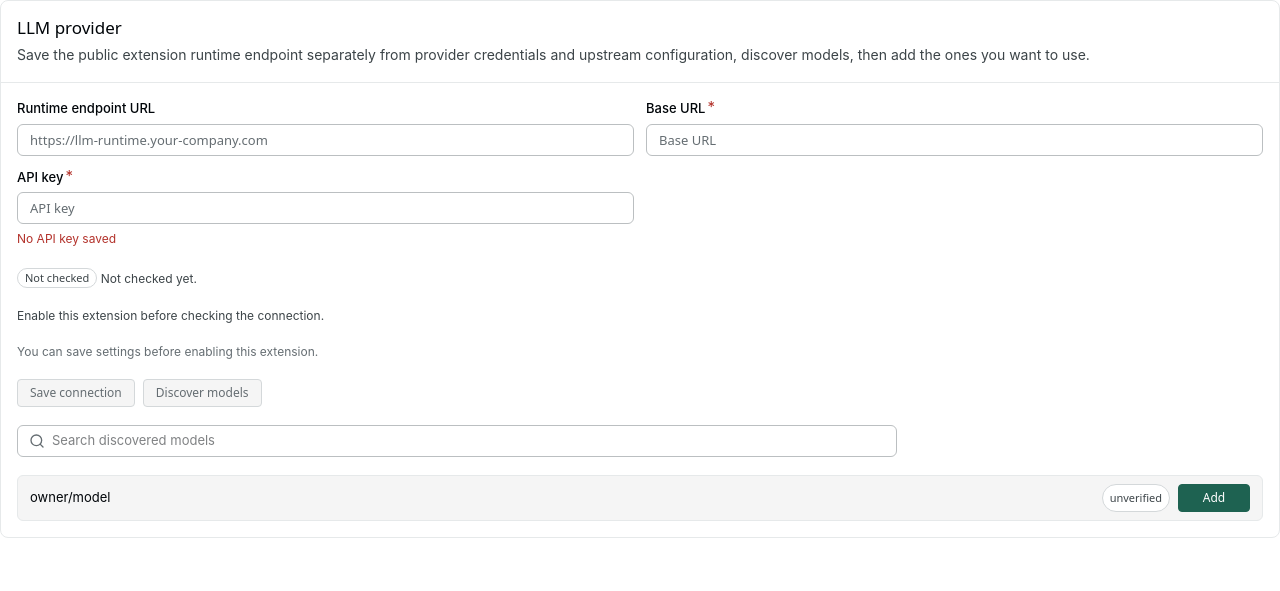
Test: LlmProviderPanel › saves disabled remote setup without checking and asks the operator to Enable
Expected: the text "owner/model" is shown, x1=30 y1=489 x2=110 y2=505
Expected: the button "Save connection" is disabled, x1=17 y1=378 x2=135 y2=406
Type "https://runtime.example.com" into the field labelled "Runtime endpoint URL" at (326, 140), box x1=17 y1=124 x2=634 y2=156
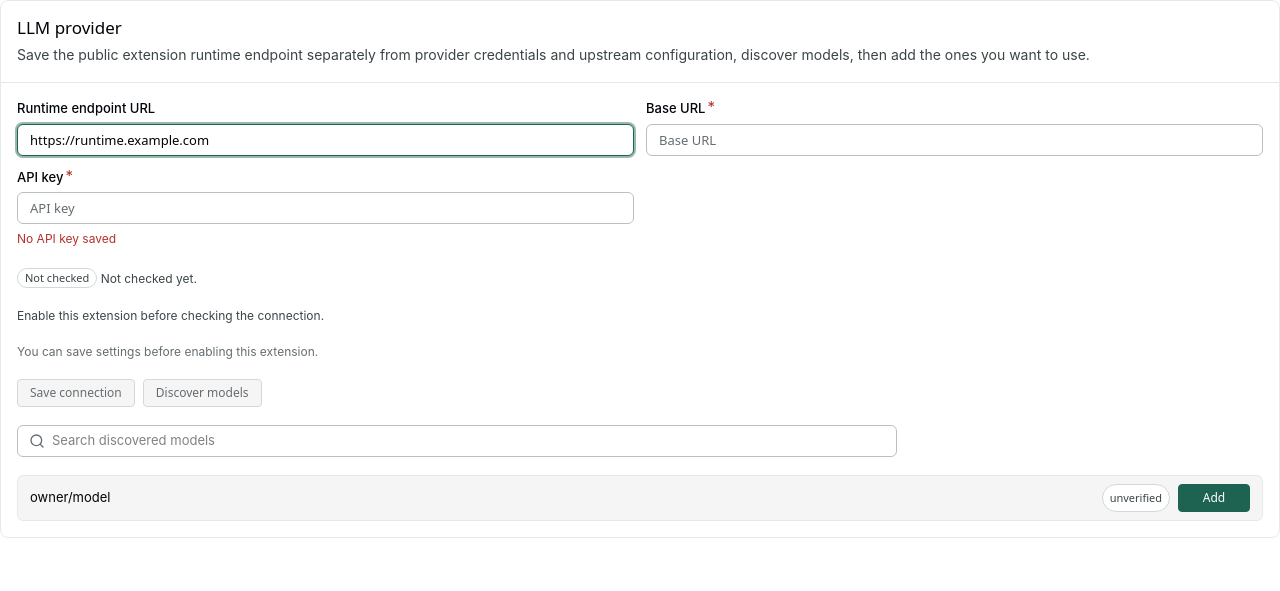
Type "https://upstream.example.com" into the field labelled "Base URL" at (954, 140), box x1=646 y1=124 x2=1263 y2=156
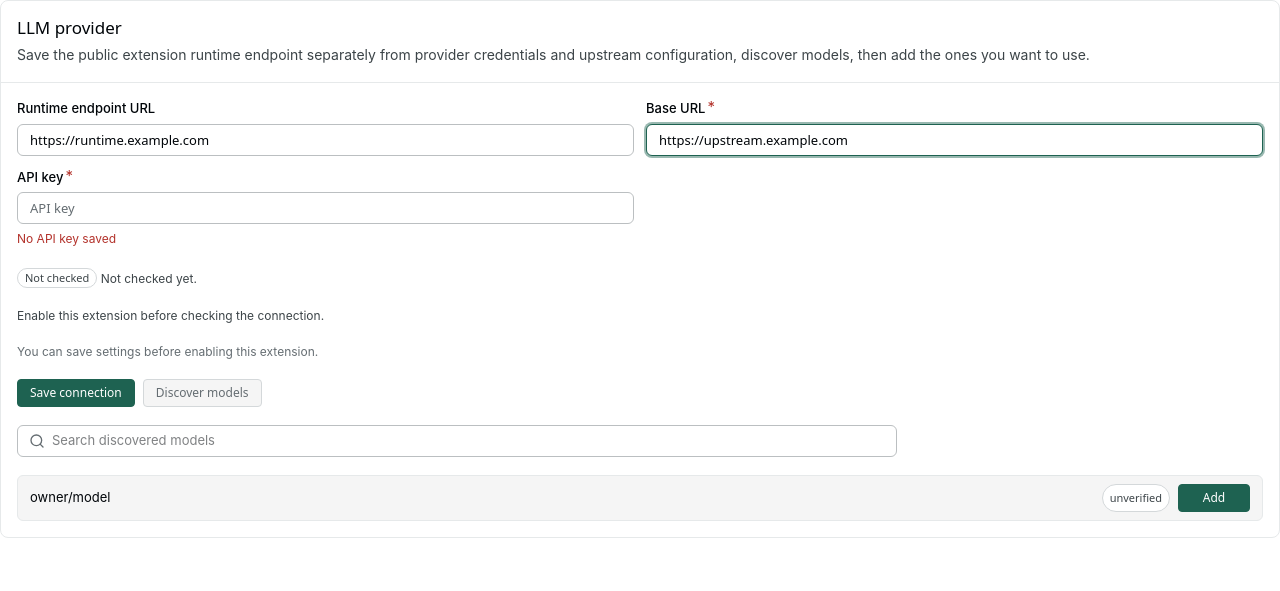
Type "test-credential" into the password field labelled "API key" at (326, 208), box x1=17 y1=192 x2=634 y2=224
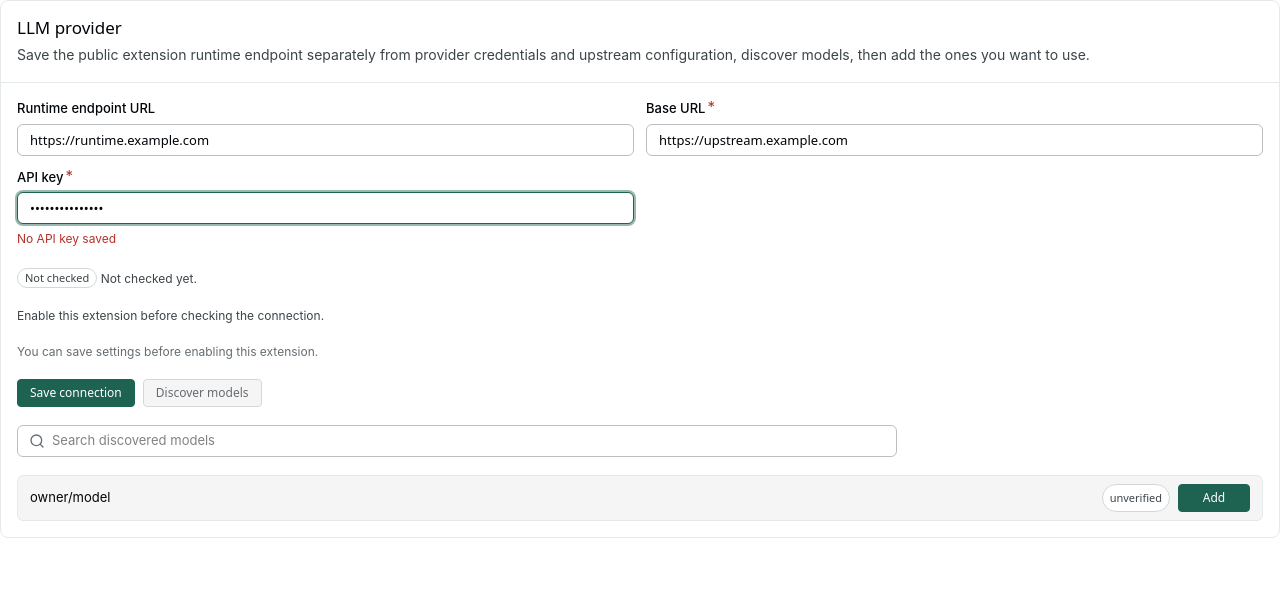
Click the button "Save connection" at (76, 392), box x1=17 y1=378 x2=135 y2=406
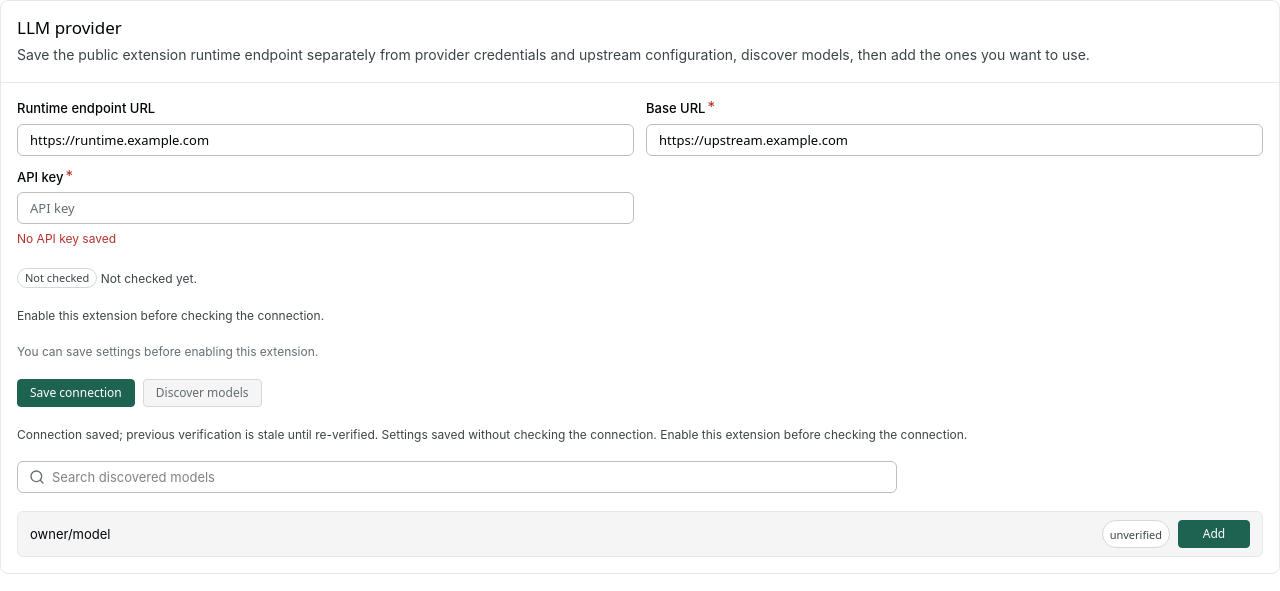
Expected: the button "Save connection" is enabled, x1=17 y1=378 x2=135 y2=406
Expected: the message shows "Settings saved without checking the connection.", x1=17 y1=426 x2=967 y2=442
Expected: the message shows "Enable this extension before checking the connection.", x1=17 y1=426 x2=967 y2=442
